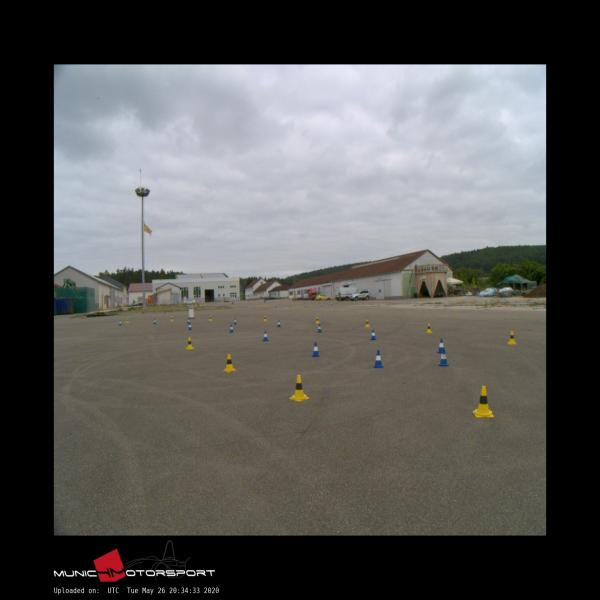blue_cone: (439, 349, 449, 365), (374, 350, 382, 367), (437, 338, 446, 353), (311, 342, 320, 356), (370, 328, 376, 340), (262, 331, 268, 340), (317, 324, 322, 333), (229, 324, 234, 332), (188, 322, 193, 330), (277, 320, 281, 327), (233, 318, 237, 325), (153, 318, 157, 325), (187, 318, 190, 324), (119, 320, 122, 325)
yellow_cone: (472, 385, 493, 417), (290, 374, 308, 401), (223, 353, 236, 371), (507, 331, 516, 344), (185, 337, 194, 349), (426, 323, 432, 332), (365, 319, 370, 327), (316, 316, 320, 324), (170, 316, 174, 322), (263, 316, 267, 321), (209, 314, 212, 320), (126, 318, 129, 323)
